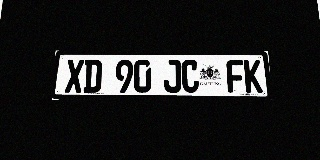0: (133, 60, 151, 93)
9: (115, 60, 133, 93)
C: (181, 60, 199, 93)
D: (83, 60, 102, 93)
F: (226, 60, 245, 93)
J: (164, 60, 181, 93)
K: (243, 60, 263, 93)
X: (65, 60, 84, 93)
